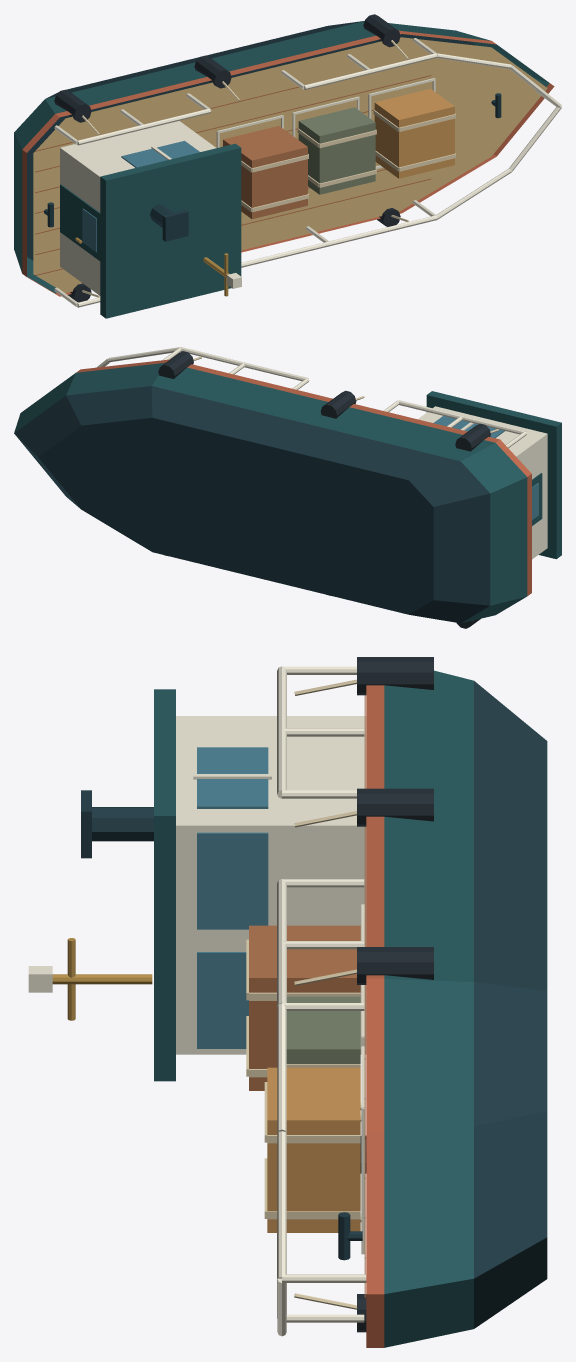
The model's file is shallow-bay.obj.
The picture shows the model from 3 angles, top to bottom: view 1: azimuth 30°, elevation 25°; view 2: azimuth 150°, elevation 25°; view 3: azimuth 270°, elevation 25°; orthographic projection. The views are drawn at different scales.
Visible parts, largest first — view 1: 04_open_deck, wheelhouse_roof, 02_teal_hull, 05_wheelhouse, cargo_3, cargo_1, cargo_2, 03_painted_rim, 01_hull_underside, handrail, fender, bow_rail (+10 smaller); view 2: 01_hull_underside, 02_teal_hull, wheelhouse_roof, 05_wheelhouse, 03_painted_rim, fender, handrail, rail_stanchion, bow_rail, side_window; view 3: 02_teal_hull, 01_hull_underside, 05_wheelhouse, cargo_3, front_window, 03_painted_rim, wheelhouse_roof, cargo_1, fender, rail_stanchion, cargo_2, side_window (+8 smaller).
Part boxes in pixels (box(x1,y1,x2,y2)): 04_open_deck: box(33, 37, 547, 293); wheelhouse_roof: box(100, 143, 241, 318); 02_teal_hull: box(14, 21, 549, 293); 05_wheelhouse: box(60, 121, 216, 295); cargo_3: box(374, 89, 454, 178); cargo_1: box(223, 126, 307, 219); cargo_2: box(298, 107, 375, 194); 03_painted_rim: box(22, 30, 554, 296); 01_hull_underside: box(27, 21, 475, 260); handrail: box(77, 53, 437, 307); fender: box(54, 14, 400, 302); bow_rail: box(436, 53, 561, 219); 01_hull_underside: box(14, 386, 490, 623); 02_teal_hull: box(14, 362, 527, 623); wheelhouse_roof: box(426, 391, 561, 559); 05_wheelhouse: box(418, 406, 547, 559); 03_painted_rim: box(76, 359, 531, 595); fender: box(158, 351, 490, 628); handrail: box(180, 347, 526, 434); rail_stanchion: box(162, 347, 526, 447); bow_rail: box(96, 347, 180, 367); side_window: box(433, 416, 504, 438); 02_teal_hull: box(384, 670, 473, 1347); 01_hull_underside: box(474, 681, 547, 1328); 05_wheelhouse: box(176, 716, 366, 1054); cargo_3: box(267, 1067, 360, 1232); front_window: box(197, 832, 268, 1048); 03_painted_rim: box(366, 685, 384, 1347); wheelhouse_roof: box(154, 689, 175, 1081); cargo_1: box(249, 925, 360, 1090); fender: box(357, 657, 433, 1332); rail_stanchion: box(282, 666, 364, 1322); cargo_2: box(286, 996, 360, 1063); side_window: box(197, 747, 268, 808).
Bounding box in the file's own units: 6.4 × 2.29 × 2.84.
